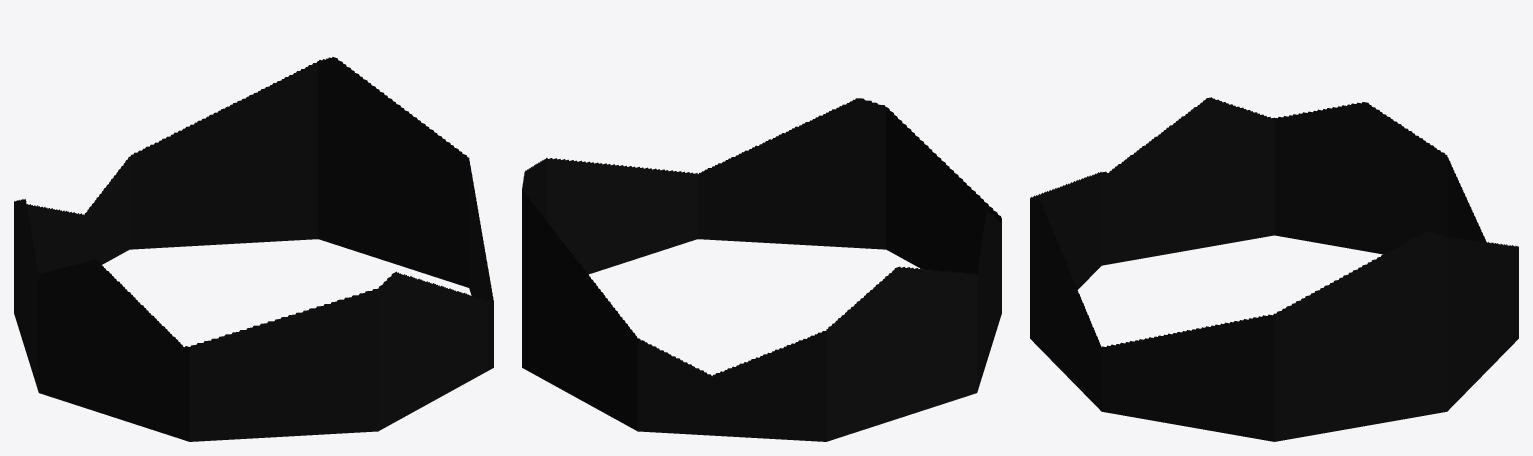
The model's file is horizon.obj.
The picture shows the model from 3 angles, left to right: view 1: azimuth 30°, elevation 25°; view 2: azimuth 150°, elevation 25°; view 3: azimuth 270°, elevation 25°; orthographic projection.
Visible parts, largest first — view 1: Cylinder; view 2: Cylinder; view 3: Cylinder.
Part boxes in pixels (x1,y1,x2,y2): Cylinder: [14, 57, 493, 441]; Cylinder: [522, 98, 1001, 441]; Cylinder: [1030, 97, 1518, 441].
Bounding box in the file's own units: 2 × 1 × 2.
